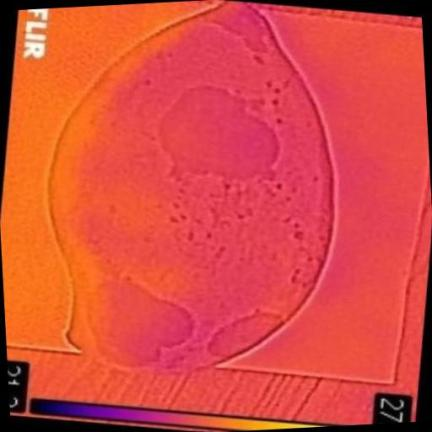mango: (51, 0, 333, 370)
